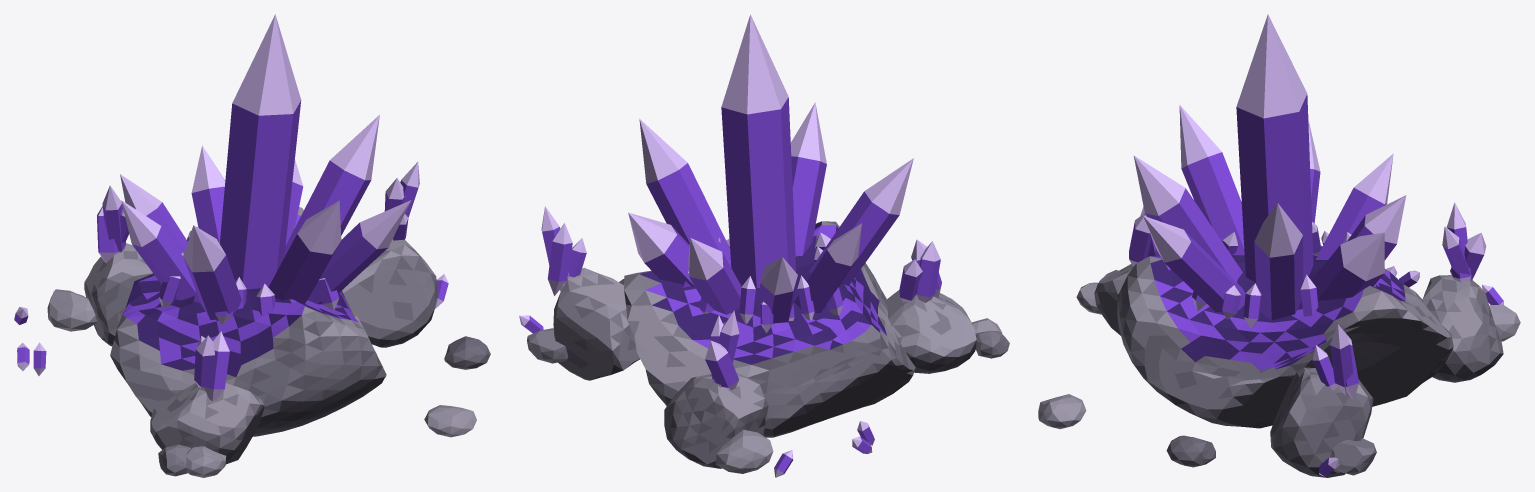
The model's file is Crystal_Starstone.obj.
The picture shows the model from 3 angles, left to right: view 1: azimuth 30°, elevation 25°; view 2: azimuth 150°, elevation 25°; view 3: azimuth 270°, elevation 25°; orthographic projection. The views are drawn at different scales.
Parts seen in each view (by area): view 1: Crystal_Starstone; view 2: Crystal_Starstone; view 3: Crystal_Starstone.
Boxes of the visible parts, x1,y1,x2,y2 form: Crystal_Starstone: (14, 14, 490, 477); Crystal_Starstone: (519, 14, 1009, 477); Crystal_Starstone: (1038, 14, 1520, 477).
Bounding box in the file's own units: 1.32 × 1.22 × 1.36.
